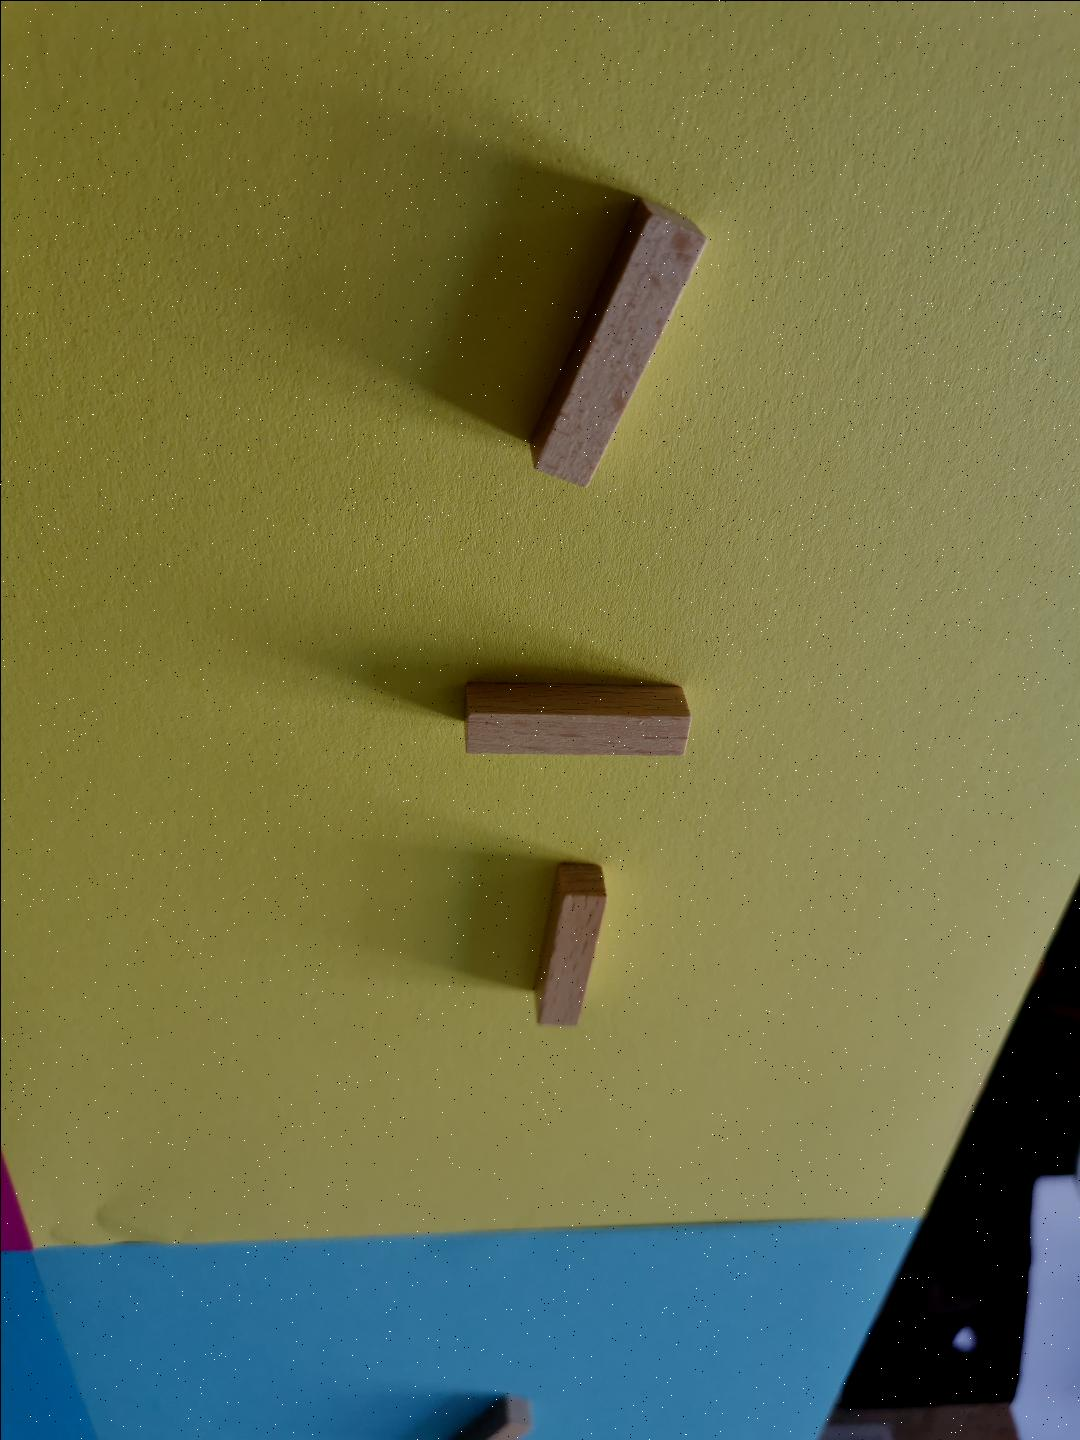jenga: (529, 200, 706, 486), (464, 680, 689, 754), (534, 864, 605, 1024)
